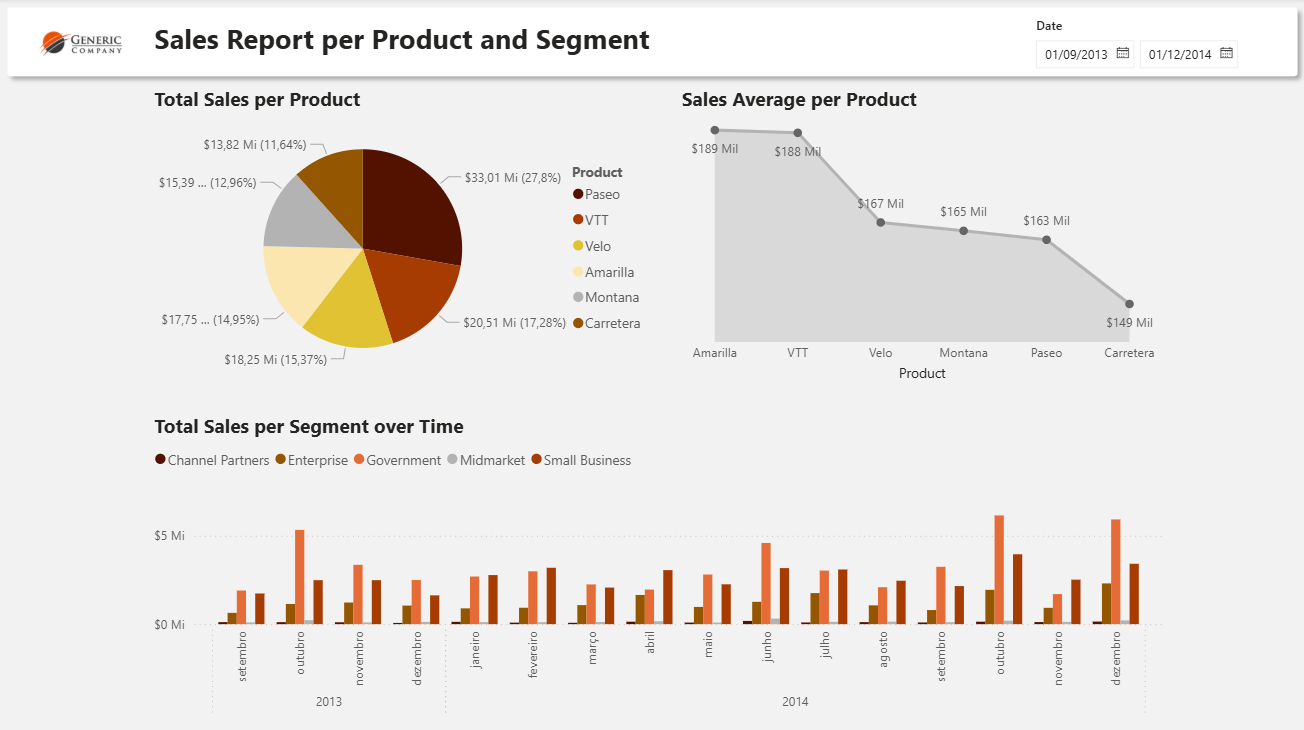

What the dashboard file says about the page in this screenshot:
{"tool":"powerbi","page":{"name":"Sales-Product","canvas":[1280,720],"ordinal":0},"visuals":[{"type":"shape","box":[0,0,1280.3,85.6],"z":0},{"type":"pieChart","title":"Total Sales per Product","fields":{"Category":["financials.Product"],"Y":["Sum(financials. Sales)"]},"box":[148,85.8,495.2,294.7],"z":1000},{"type":"areaChart","title":"Sales Average per Product","fields":{"Y":["Avg(financials. Sales)"],"Category":["financials.Product"]},"box":[664,85.8,480.6,294.7],"z":2000},{"type":"clusteredColumnChart","title":"Total Sales per Segment over Time","fields":{"Y":["Sum(financials. Sales)"],"Category":["financials.Date.Variation.Hierarquia de datas.Ano","financials.Date.Variation.Hierarquia de datas.Mês"],"Series":["financials.Segment"]},"box":[147.7,406,996.6,304.5],"z":3000},{"type":"slicer","fields":{"Values":["financials.Date"]},"box":[1002.7,13.5,249.5,59.9],"z":4000},{"type":"image","box":[15.9,11,132.1,62.4],"z":5000},{"type":"textbox","box":[148,15.9,527,52.6],"z":6000}]}

Visuals, with their boxes in screenshot pixels (x1, y1, x2, y2), scaled from the page's 1280x720 canvas onto the 1304x730 screenshot:
shape: x1=0 y1=0 x2=1303 y2=87
"Total Sales per Product" pieChart: x1=151 y1=87 x2=655 y2=386
"Sales Average per Product" areaChart: x1=676 y1=87 x2=1166 y2=386
"Total Sales per Segment over Time" clusteredColumnChart: x1=150 y1=412 x2=1166 y2=720
slicer - financials.Date: x1=1022 y1=14 x2=1276 y2=74
image: x1=16 y1=11 x2=151 y2=74
textbox: x1=151 y1=16 x2=688 y2=69
